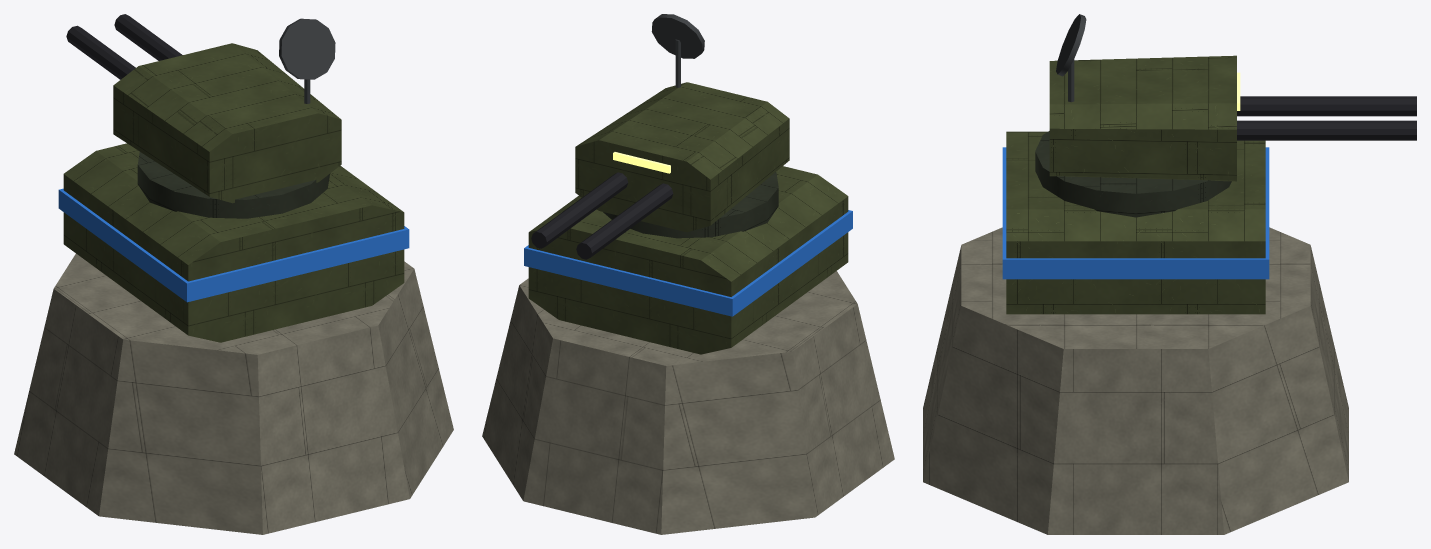
File: militar_torre.glb
3 renders of one model, left to right at view 1: azimuth 30°, elevation 25°; view 2: azimuth 150°, elevation 25°; view 3: azimuth 270°, elevation 25°, orthographic. The views are drawn at different scales.
Visible parts, largest first — view 1: Body_Concrete, Body_Hull, Turret_Hull, Body_TeamColor, Turret_HullDark, Turret_Metal, Turret_Gun; view 2: Body_Concrete, Body_Hull, Turret_Hull, Body_TeamColor, Turret_Gun, Turret_HullDark, Turret_Metal, Turret_Glow; view 3: Body_Concrete, Body_Hull, Turret_Hull, Turret_Gun, Body_TeamColor, Turret_HullDark, Turret_Metal.
Boxes of the visible parts, left/top/right/bottom form: Body_Concrete: left=14, top=253, right=453, bottom=534; Body_Hull: left=63, top=143, right=404, bottom=342; Turret_Hull: left=113, top=43, right=341, bottom=203; Body_TeamColor: left=58, top=188, right=409, bottom=302; Turret_HullDark: left=137, top=152, right=330, bottom=218; Turret_Metal: left=279, top=18, right=335, bottom=103; Turret_Gun: left=66, top=14, right=182, bottom=79; Body_Concrete: left=482, top=271, right=894, bottom=534; Body_Hull: left=528, top=166, right=848, bottom=354; Turret_Hull: left=575, top=82, right=789, bottom=232; Body_TeamColor: left=524, top=210, right=852, bottom=316; Turret_Gun: left=531, top=172, right=673, bottom=259; Turret_HullDark: left=603, top=172, right=778, bottom=238; Turret_Metal: left=651, top=14, right=704, bottom=87; Turret_Glow: left=613, top=152, right=670, bottom=173; Body_Concrete: left=923, top=227, right=1348, bottom=534; Body_Hull: left=1006, top=131, right=1265, bottom=314; Turret_Hull: left=1049, top=55, right=1236, bottom=181; Turret_Gun: left=1237, top=96, right=1416, bottom=140; Body_TeamColor: left=1002, top=147, right=1269, bottom=279; Turret_HullDark: left=1035, top=131, right=1231, bottom=217; Turret_Metal: left=1056, top=14, right=1086, bottom=102.
Size of the model in its own units: 5.91 by 6.88 by 6.86.
7 materials, 3 textured.
